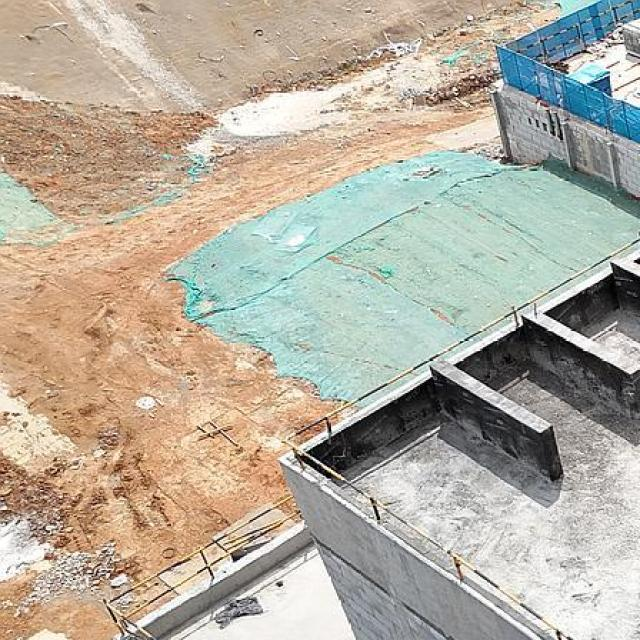Guardrail: (283, 234, 640, 640), (102, 494, 301, 640), (516, 0, 638, 60)
